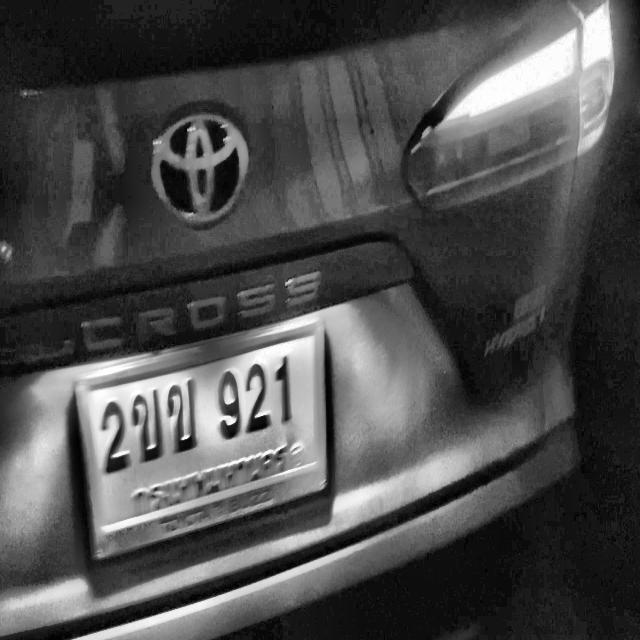license-plate: (70, 316, 335, 571)
